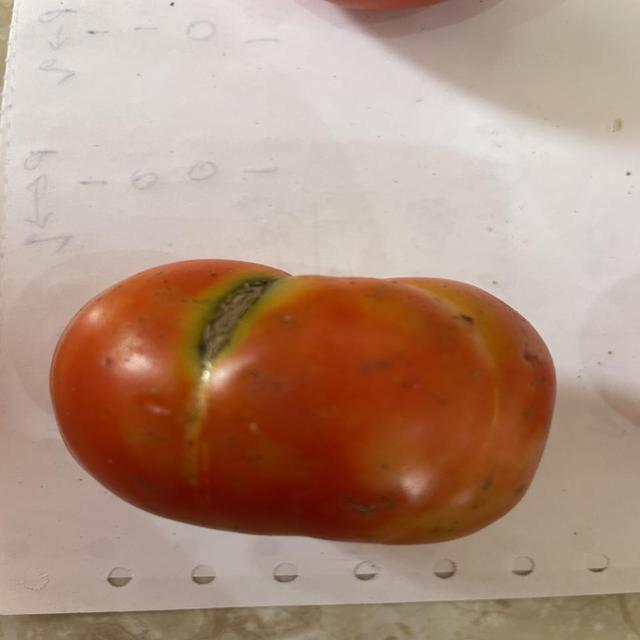Cracking Fruit: (63, 95, 184, 352)
